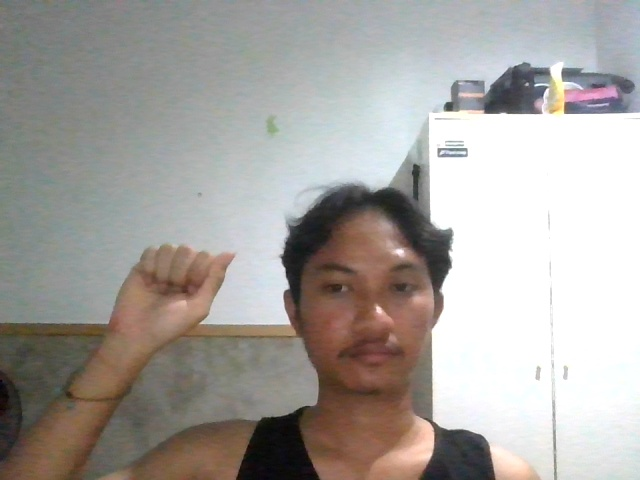a: (91, 230, 244, 352)
